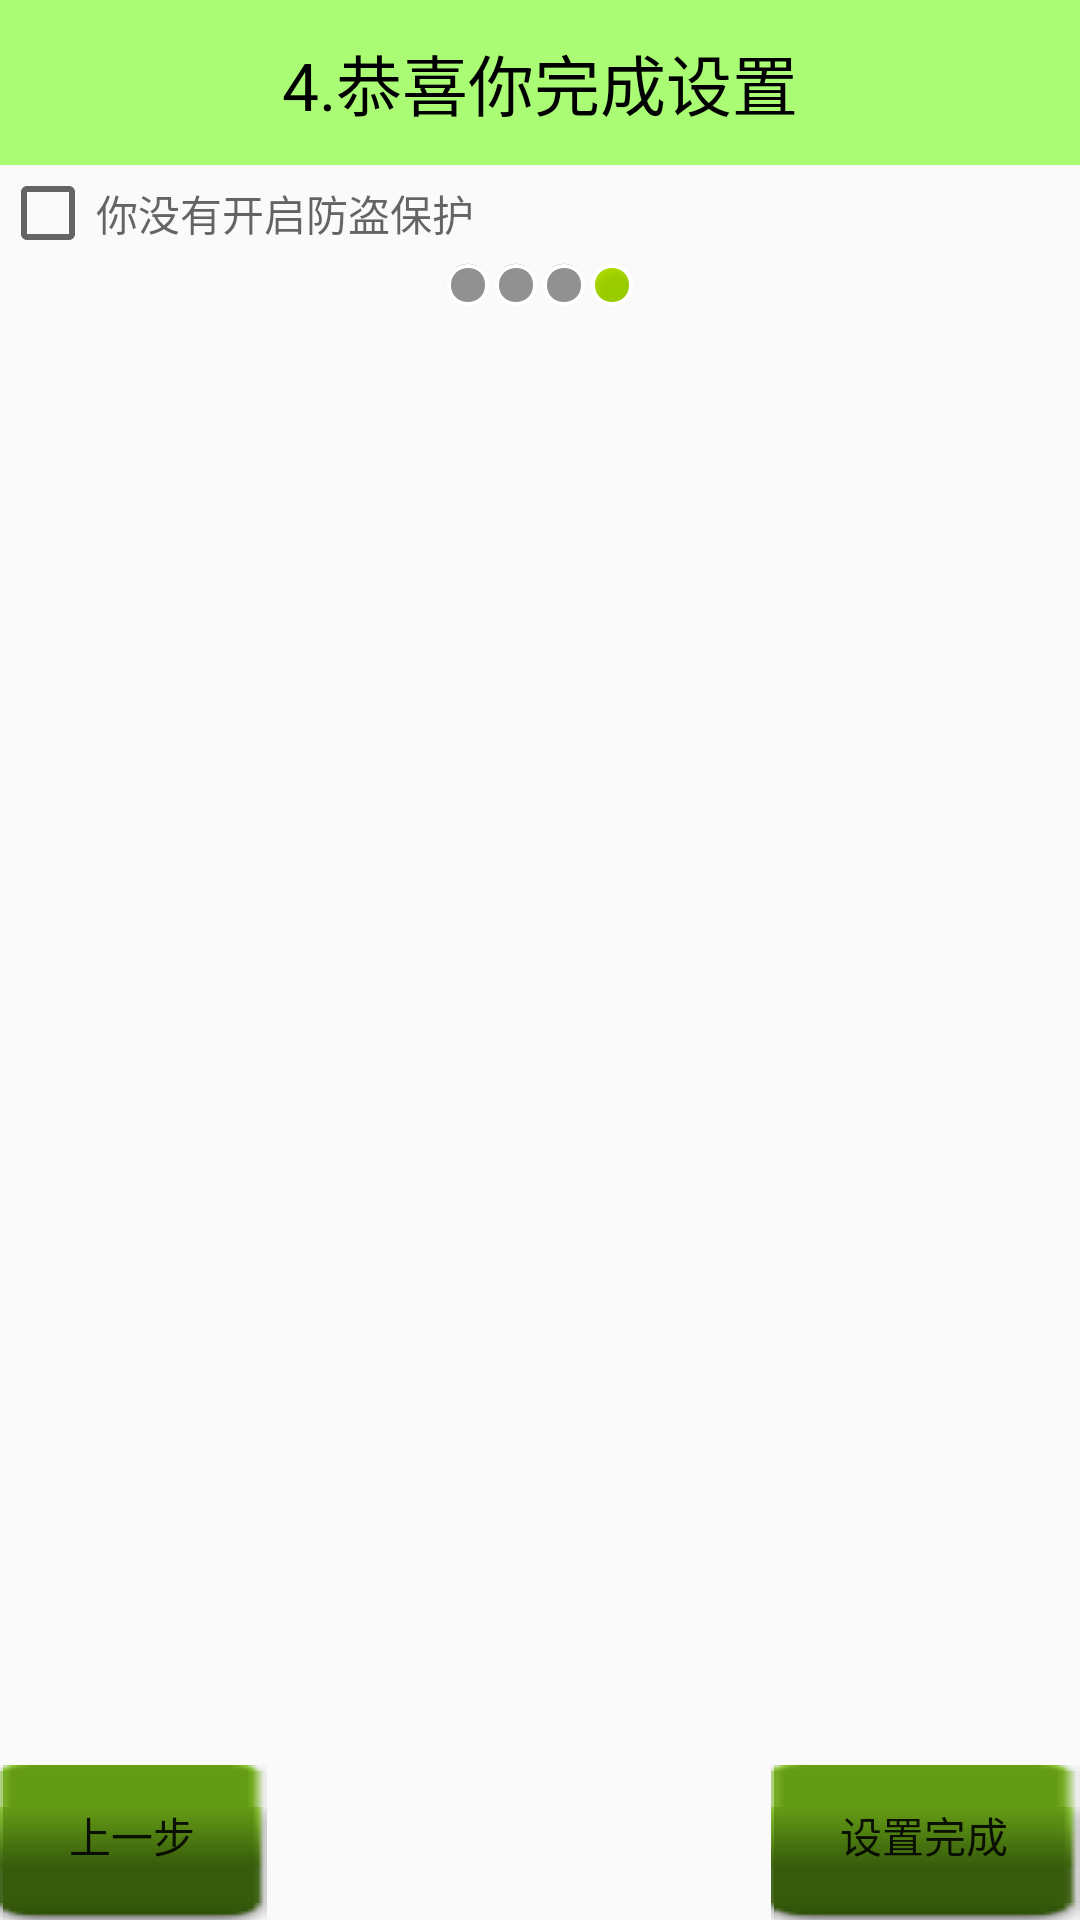

Icons on this 1080px×1920px Android screen, each with the point to tap as (x,y):
presence invisible: (468,283), (516,283), (564,283)
presence online: (612,285)
